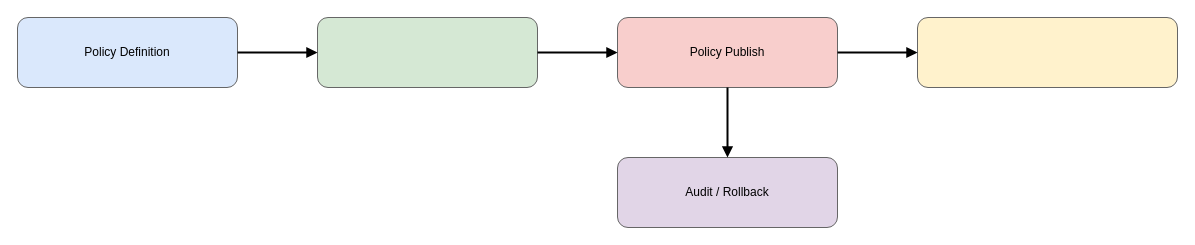
Some shapes in this 1195 by 245 pixel diagram are drawn without their labels. The centre of each missing label's shape, as x and y in pixels:
"Distributed Enforcement" belongs at pixel 1047 52.
"Policy Review" belongs at pixel 427 52.
